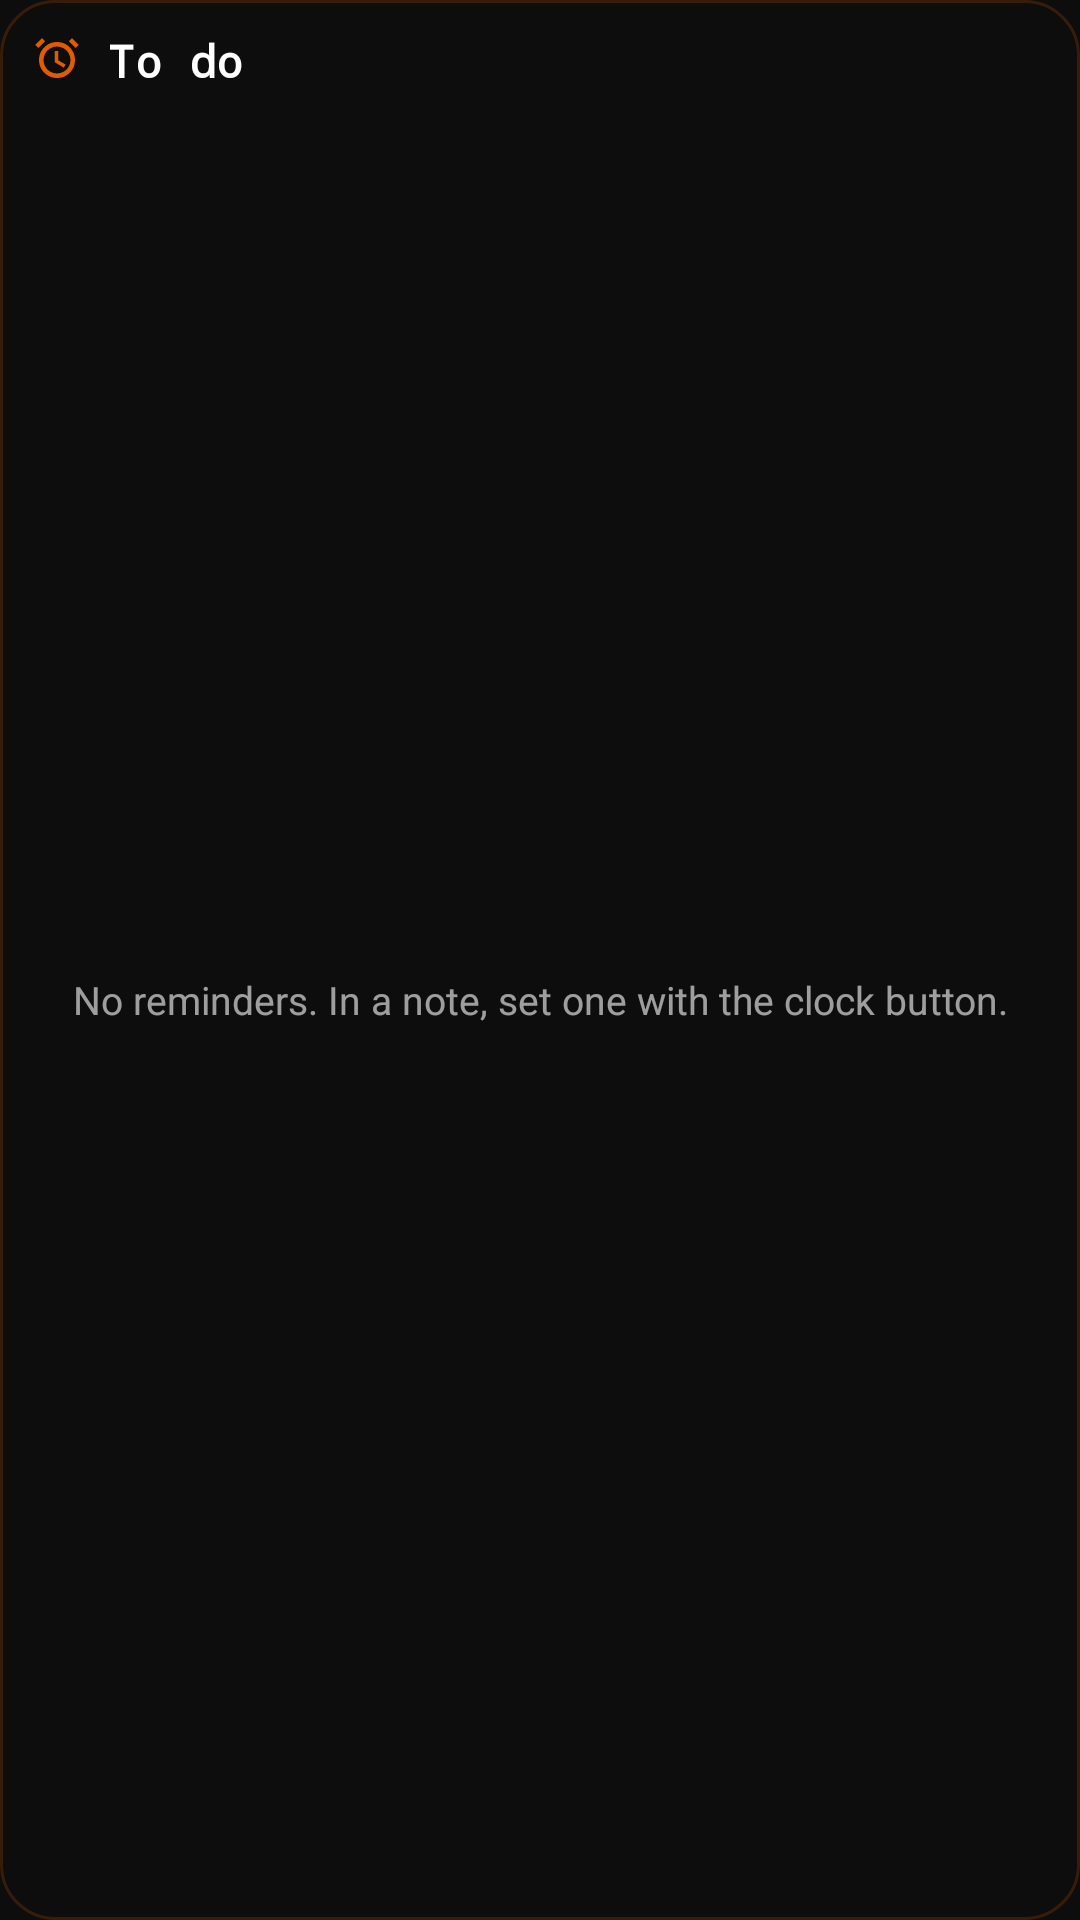

Named icons in this screenshot (1080px×1920px) and their bounding boxes, [x1,y1,x2,y2]:
notify: [35,38,79,78]
